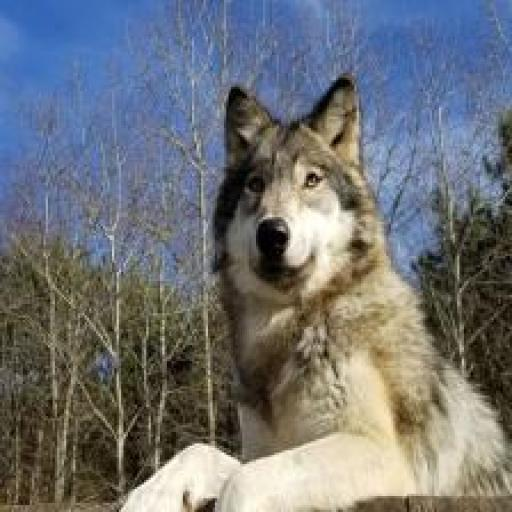wolf: (109, 66, 512, 511)
